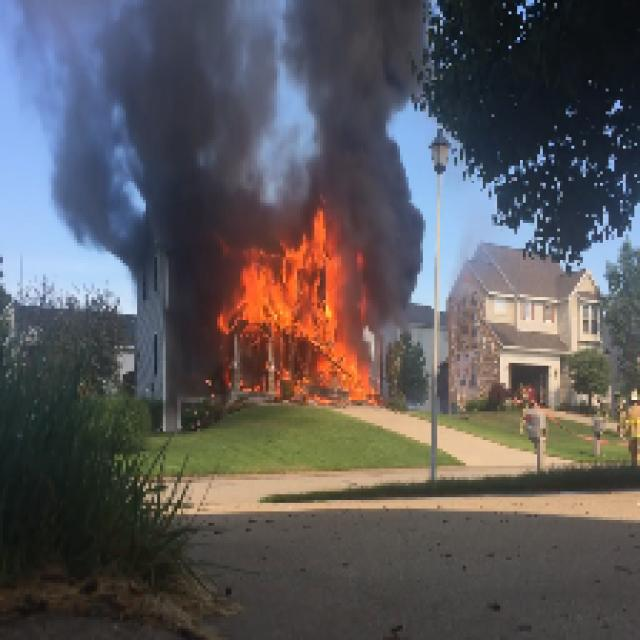fire: (235, 240, 341, 376)
smoke: (138, 6, 235, 352), (319, 8, 399, 242)
